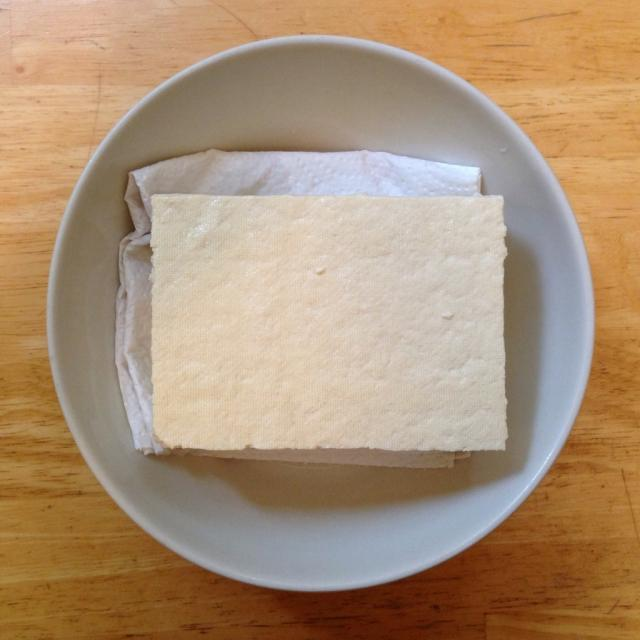Cheese: (147, 194, 509, 454)
